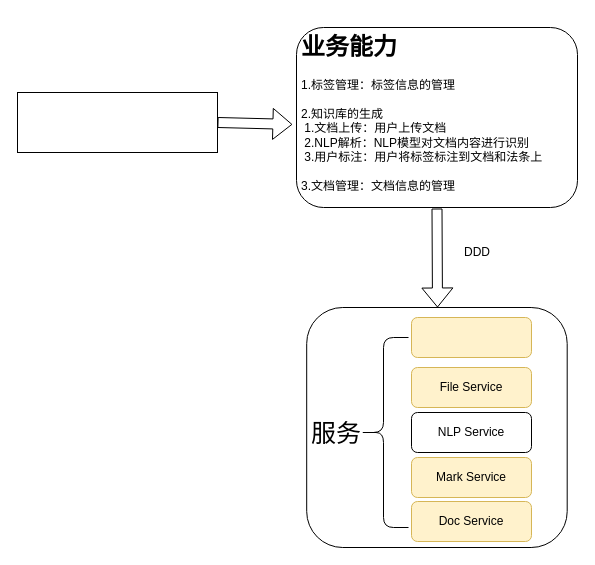
Some shapes in this 595 by 565 pixel diagram are drawn without their labels. The centre of each missing label's shape, as x and y in pixels:
"1.合规知识管理 2.智能查询" goes at point 117,122.
"Label Service" goes at point 471,337.
